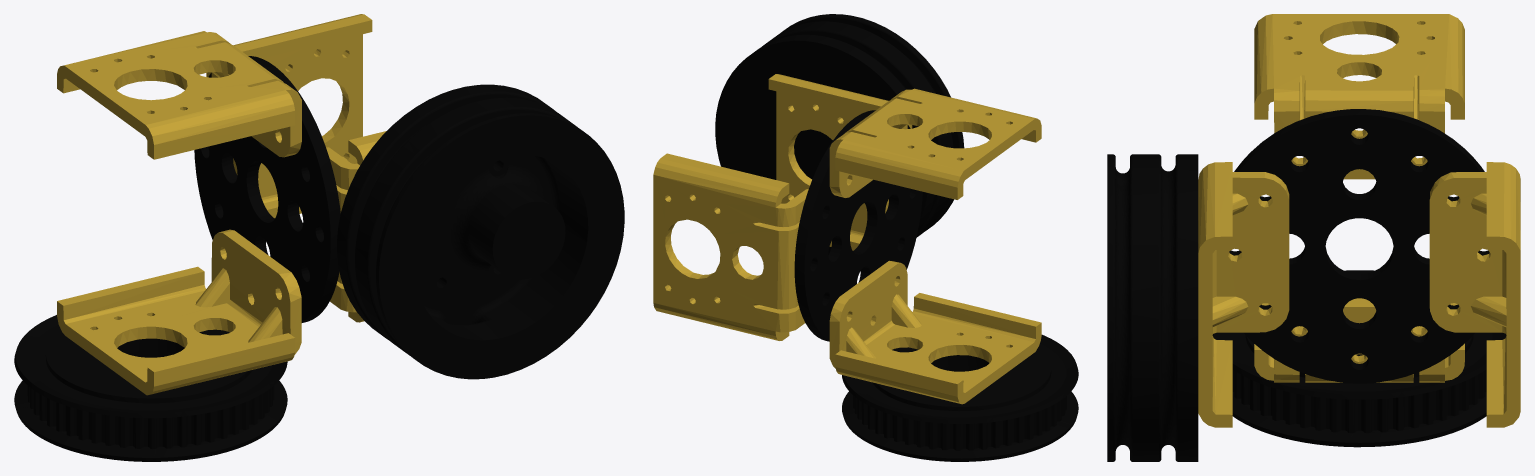
File: joint_junction_link_wire.dae
The picture shows the model from 3 angles, left to right: view 1: azimuth 30°, elevation 25°; view 2: azimuth 150°, elevation 25°; view 3: azimuth 270°, elevation 25°; orthographic projection. The views are drawn at different scales.
Parts seen in each view (by area): view 1: joint_junction_link_wire_belt_black, joint_junction_link_gold; view 2: joint_junction_link_gold, joint_junction_link_wire_belt_black; view 3: joint_junction_link_wire_belt_black, joint_junction_link_gold.
Part boxes in pixels (left/top/right/bottom): joint_junction_link_wire_belt_black: left=14, top=56, right=624, bottom=461; joint_junction_link_gold: left=57, top=14, right=386, bottom=395; joint_junction_link_gold: left=653, top=74, right=1041, bottom=404; joint_junction_link_wire_belt_black: left=715, top=14, right=1078, bottom=461; joint_junction_link_wire_belt_black: left=1107, top=109, right=1506, bottom=461; joint_junction_link_gold: left=1198, top=14, right=1520, bottom=427.
Size of the model in its own units: 0.1045 by 0.0726 by 0.0672.
